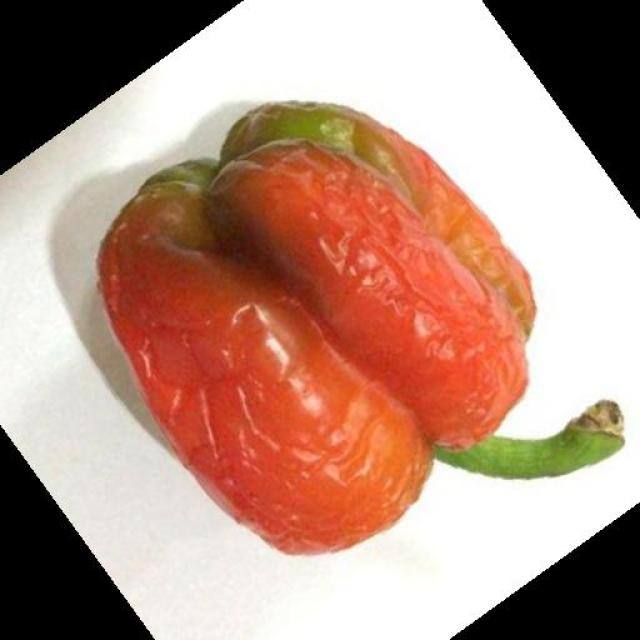Stale_Capsicum: (102, 88, 547, 558)
